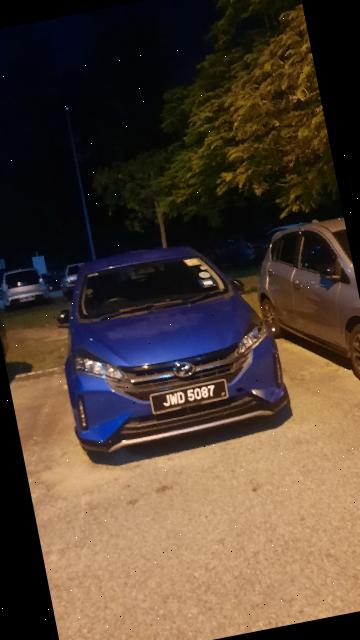License_Plate: (143, 373, 234, 417)
car: (45, 225, 300, 472)
